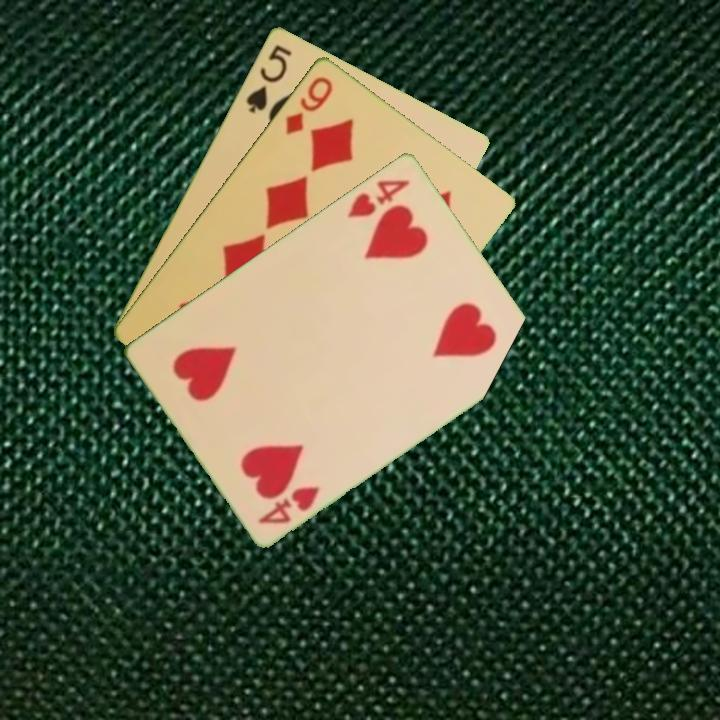4h: (343, 175, 413, 220), (255, 482, 322, 527)
5s: (242, 40, 295, 116)
9d: (281, 72, 336, 137)
